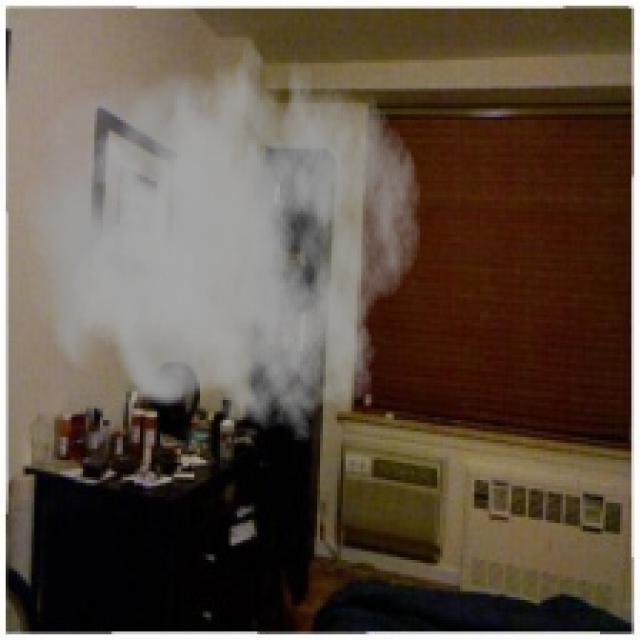Smoke: (23, 17, 423, 443)
